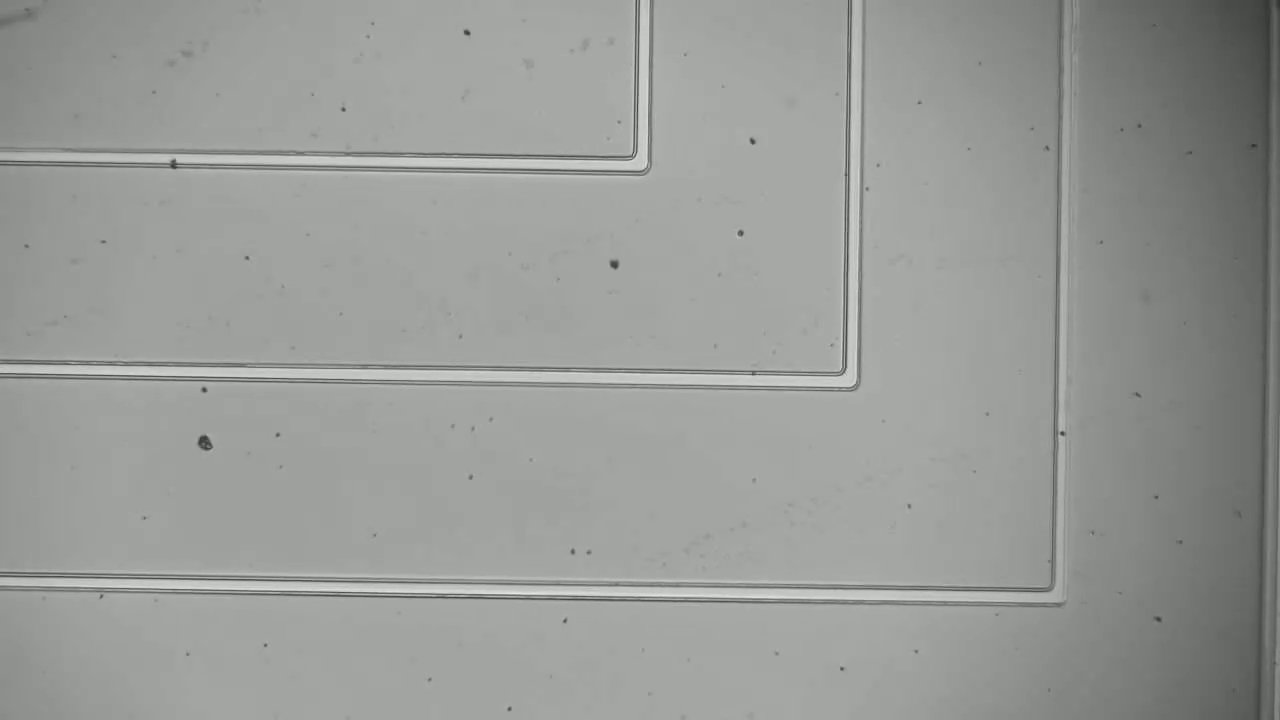stains_enbedded: (160, 147, 191, 175)
